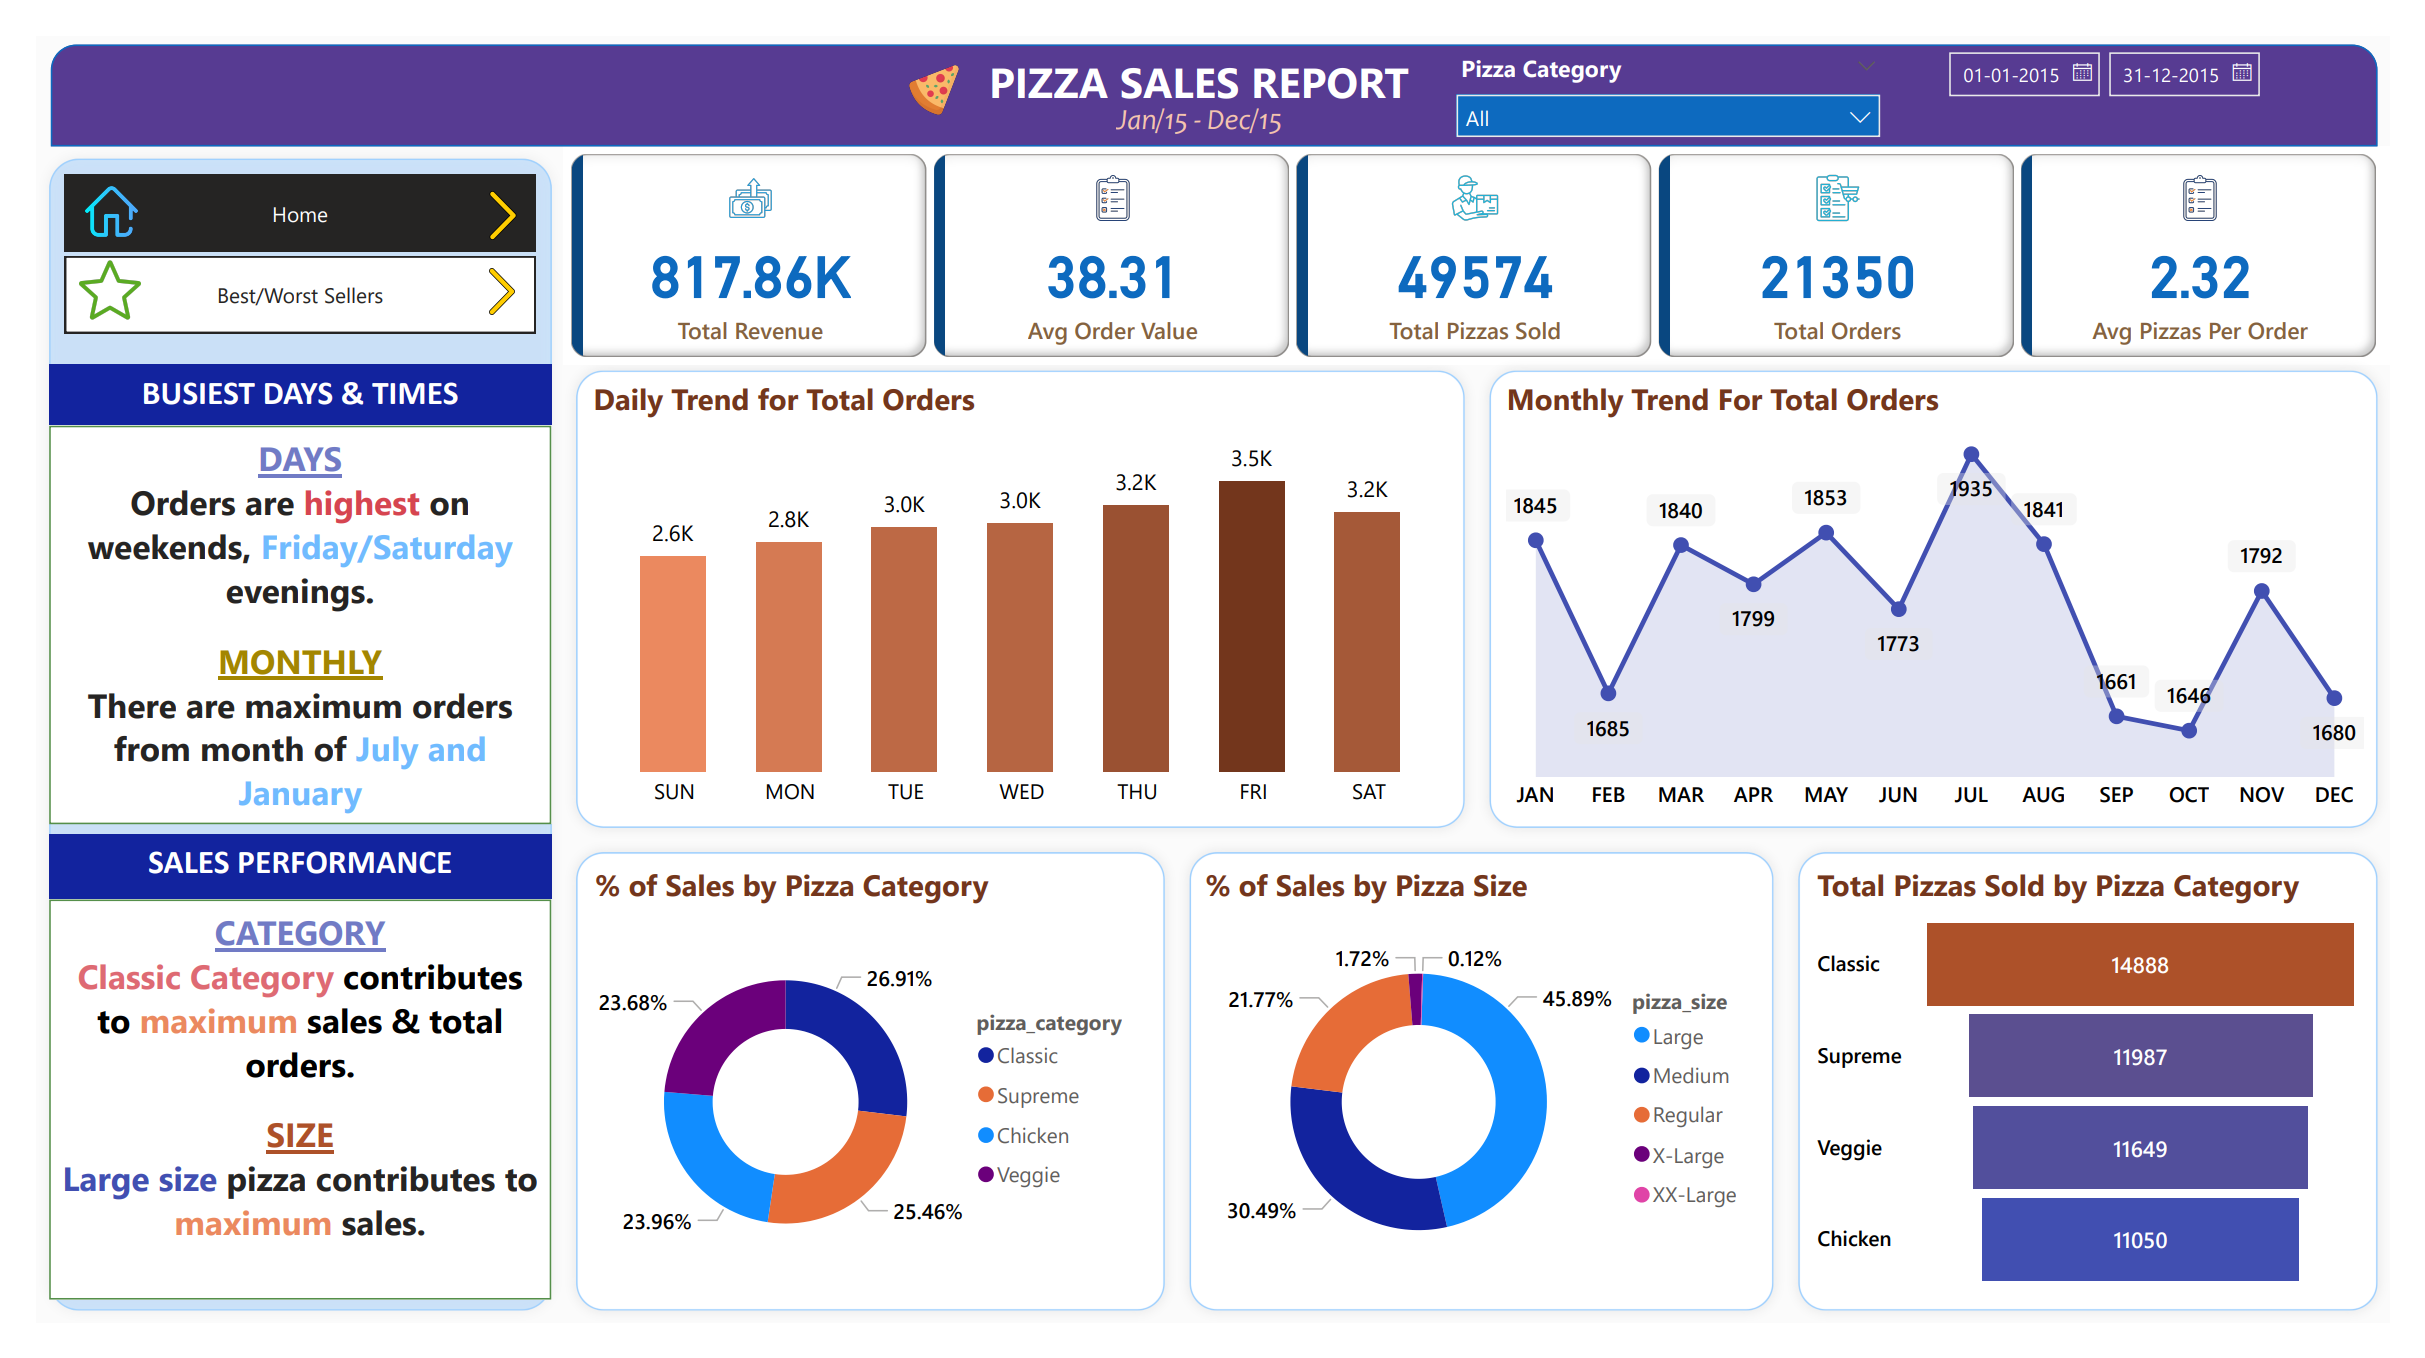

Layout of this report page (visuals, bound fields, positions):
{"tool":"powerbi","page":{"name":"Home","canvas":[1500,820],"ordinal":0},"visuals":[{"type":"shape","box":[0,70,336,750],"z":0},{"type":"shape","box":[336.4,204.5,581.8,307.6],"z":1000},{"type":"cardVisual","fields":{"Data":["pizza_sales.Total Revenue","pizza_sales.Avg Order Value","pizza_sales.Total Pizzas Sold","pizza_sales.Total Orders","pizza_sales.Avg Pizzas Per Order"]},"box":[336.4,69.7,1163.6,139.4],"z":2000},{"type":"shape","box":[9.1,4.5,1483.3,65.2],"z":3000},{"type":"textbox","box":[602.4,4.8,292.9,52.4],"z":4000},{"type":"textbox","box":[683,36.2,168.1,78.7],"z":5000},{"type":"image","box":[538.3,12.8,68.1,42.6],"z":6000},{"type":"columnChart","title":"Daily Trend for Total Orders","fields":{"Category":["pizza_sales.Order Day"],"Y":["pizza_sales.Total Orders"]},"box":[350,218.2,556.1,281.8],"z":7000},{"type":"shape","box":[918.2,204.5,581.8,307.6],"z":8000},{"type":"areaChart","title":"Monthly Trend For Total Orders","fields":{"Y":["pizza_sales.Total Orders"],"Category":["pizza_sales.Order Month"]},"box":[931.8,218.2,556.1,283.3],"z":9000},{"type":"shape","box":[336.4,512.1,390.9,307.6],"z":10000},{"type":"shape","box":[1115.2,512.1,384.8,307.6],"z":11000},{"type":"shape","box":[727.3,512.1,387.9,307.6],"z":12000},{"type":"donutChart","title":"% of Sales by Pizza Category","fields":{"Category":["pizza_sales.pizza_category"],"Y":["pizza_sales.Total Revenue"]},"box":[351.1,527.7,361.7,276.6],"z":13000},{"type":"donutChart","title":"% of Sales by Pizza Size","fields":{"Y":["pizza_sales.Total Revenue"],"Category":["pizza_sales.pizza_size"]},"box":[740.4,527.7,361.7,276.6],"z":14000},{"type":"funnel","title":"Total Pizzas Sold by Pizza Category","fields":{"Y":["pizza_sales.Total Pizzas Sold"],"Category":["pizza_sales.pizza_category"]},"box":[1129.8,527.7,357.4,276.6],"z":15000},{"type":"textbox","box":[7.8,208.9,320,41.1],"z":16000},{"type":"textbox","box":[8,248,320,254],"z":17000},{"type":"textbox","box":[7.5,507.5,320,42.5],"z":18000},{"type":"textbox","box":[7.5,550,320,255],"z":19000},{"type":"slicer","fields":{"Values":["pizza_sales.pizza_category"]},"box":[895.4,4.6,290,65.4],"z":20000},{"type":"slicer","fields":{"Values":["pizza_sales.order_date"]},"box":[1206.2,0,216.9,70],"z":21000}]}

Visuals, with their boxes in screenshot pixels (x1, y1, x2, y2), scaled from the page's 1500x820 canvas onto the 2425x1358 screenshot:
shape: [left=0, top=116, right=543, bottom=1357]
shape: [left=544, top=339, right=1484, bottom=848]
cardVisual - pizza_sales.Total Revenue x pizza_sales.Avg Order Value: [left=544, top=115, right=2424, bottom=346]
shape: [left=15, top=7, right=2413, bottom=115]
textbox: [left=974, top=8, right=1447, bottom=95]
textbox: [left=1104, top=60, right=1376, bottom=190]
image: [left=870, top=21, right=980, bottom=92]
"Daily Trend for Total Orders" columnChart: [left=566, top=361, right=1465, bottom=828]
shape: [left=1484, top=339, right=2424, bottom=848]
"Monthly Trend For Total Orders" areaChart: [left=1506, top=361, right=2405, bottom=831]
shape: [left=544, top=848, right=1176, bottom=1357]
shape: [left=1803, top=848, right=2424, bottom=1357]
shape: [left=1176, top=848, right=1803, bottom=1357]
"% of Sales by Pizza Category" donutChart: [left=568, top=874, right=1152, bottom=1332]
"% of Sales by Pizza Size" donutChart: [left=1197, top=874, right=1782, bottom=1332]
"Total Pizzas Sold by Pizza Category" funnel: [left=1827, top=874, right=2404, bottom=1332]
textbox: [left=13, top=346, right=530, bottom=414]
textbox: [left=13, top=411, right=530, bottom=831]
textbox: [left=12, top=840, right=529, bottom=911]
textbox: [left=12, top=911, right=529, bottom=1333]
slicer - pizza_sales.pizza_category: [left=1448, top=8, right=1916, bottom=116]
slicer - pizza_sales.order_date: [left=1950, top=0, right=2301, bottom=116]
